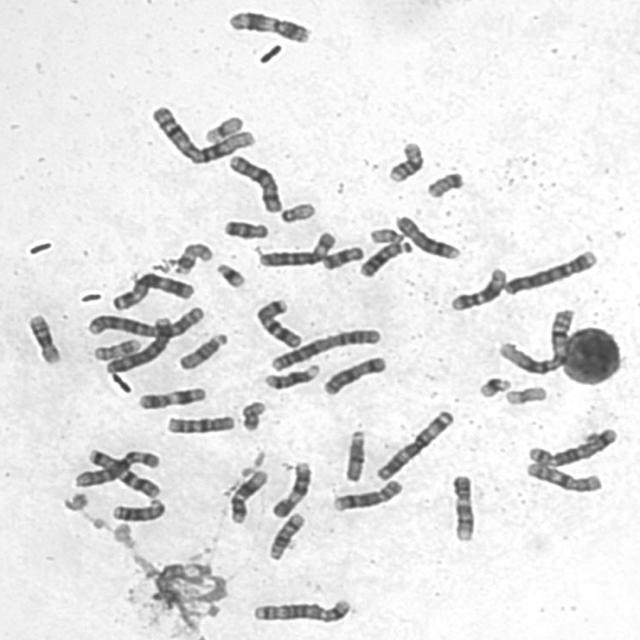A1: (147, 102, 257, 166), (494, 304, 578, 377)
A2: (267, 325, 384, 374), (83, 302, 207, 340)
A3: (372, 406, 457, 483), (108, 269, 198, 312)
B4: (500, 246, 600, 297), (101, 313, 174, 374)
B5: (525, 424, 621, 469), (249, 595, 354, 625)
C10: (522, 458, 606, 495), (163, 412, 237, 436)
C11: (224, 6, 314, 45), (134, 384, 208, 411)
C12: (447, 264, 510, 313), (226, 466, 270, 525)
C6: (72, 446, 162, 491), (254, 228, 339, 269)
C7: (81, 445, 163, 499), (251, 295, 304, 350)
C8: (391, 212, 462, 261), (330, 476, 406, 514)
C9: (268, 458, 314, 519), (447, 471, 478, 543)
D13: (356, 238, 414, 280), (108, 496, 167, 524)
D14: (265, 509, 307, 562), (261, 360, 322, 390)
D15: (175, 330, 230, 372), (341, 426, 368, 484)
E16: (23, 310, 63, 366), (384, 138, 426, 184)
E17: (170, 239, 214, 276), (90, 335, 143, 362)
E18: (319, 242, 366, 272), (220, 216, 270, 241)
F19: (200, 112, 245, 144), (501, 382, 550, 407)
F20: (423, 168, 467, 200), (237, 398, 268, 433)
G21: (212, 260, 248, 290), (475, 373, 514, 399)
G22: (277, 199, 317, 224), (366, 224, 406, 246)
X: (225, 151, 284, 214), (319, 353, 390, 397)
